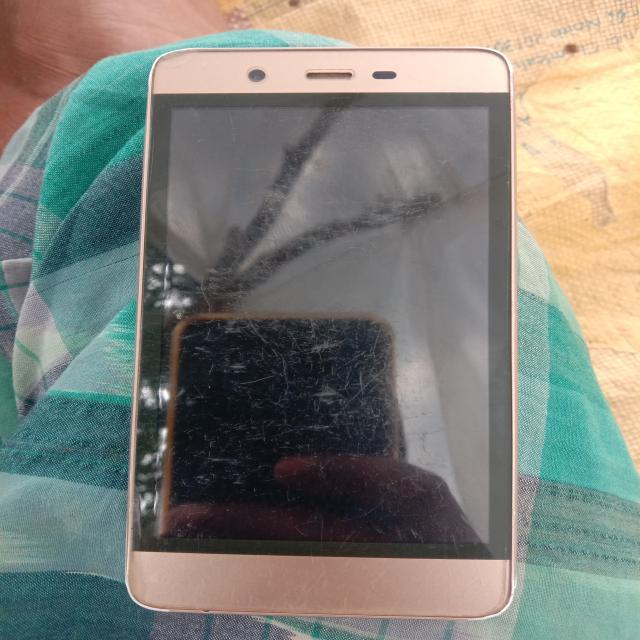scratch: (133, 204, 498, 549)
